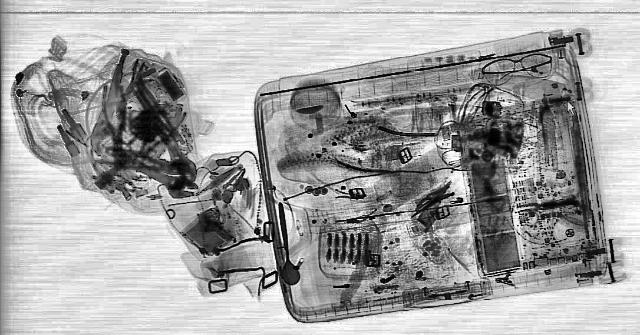Wrench: (90, 142, 210, 201)
